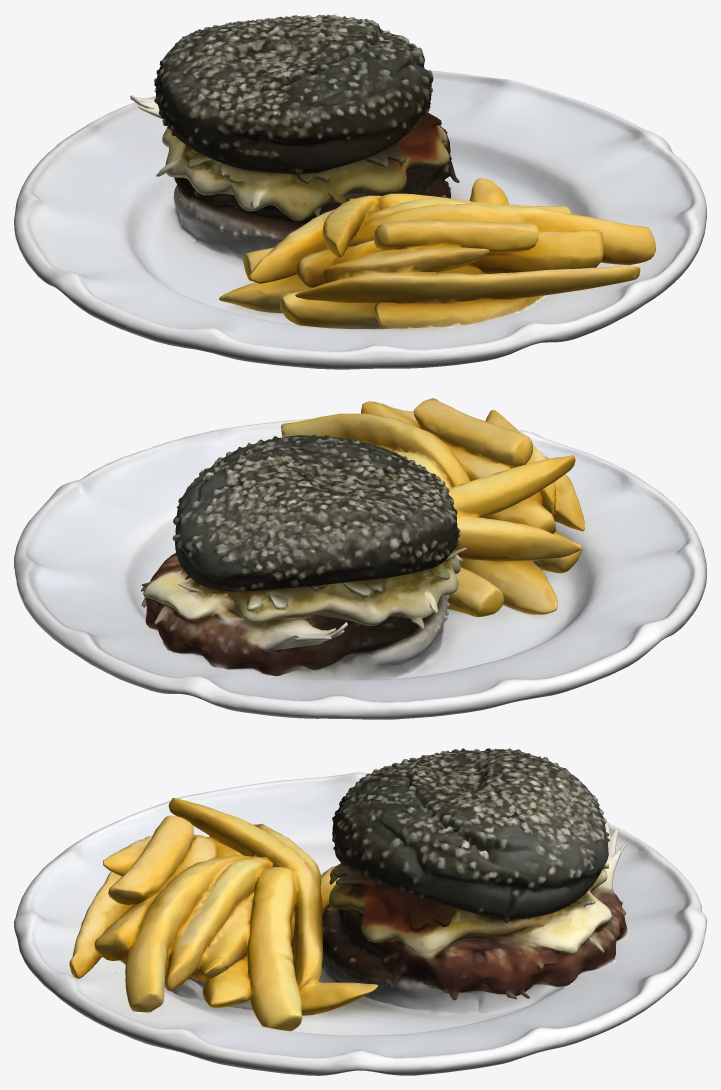
The model's file is hamburguesa-pan-negro.glb.
3 views of the same model, one above another, from view 1: azimuth 30°, elevation 25°; view 2: azimuth 150°, elevation 25°; view 3: azimuth 270°, elevation 25° (orthographic).
Parts seen in each view (by area): view 1: tripo_node_c2e7d476-856b-45d2-b94f-50b292661e72; view 2: tripo_node_c2e7d476-856b-45d2-b94f-50b292661e72; view 3: tripo_node_c2e7d476-856b-45d2-b94f-50b292661e72.
Part boxes in pixels (bbox=[...]): tripo_node_c2e7d476-856b-45d2-b94f-50b292661e72: bbox=[14, 14, 706, 369]; tripo_node_c2e7d476-856b-45d2-b94f-50b292661e72: bbox=[14, 398, 706, 719]; tripo_node_c2e7d476-856b-45d2-b94f-50b292661e72: bbox=[14, 748, 706, 1075].
Bounding box in the file's own units: 0.9989 × 0.3069 × 1.
1 material, 1 textured.
